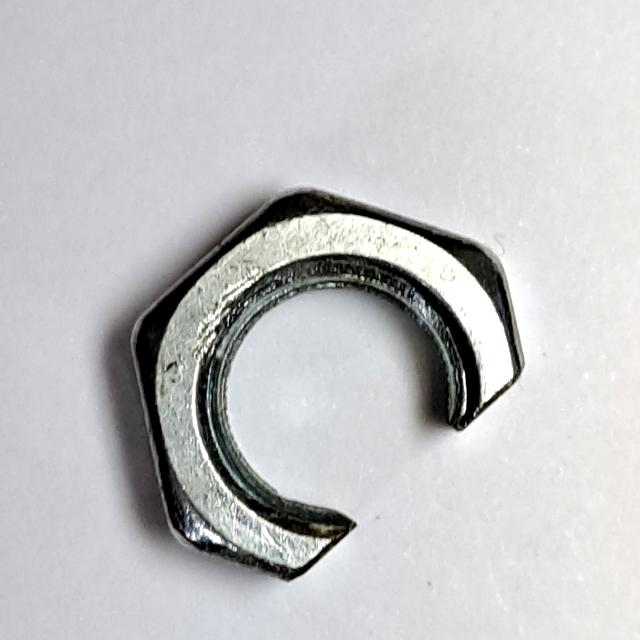Fracture: (117, 171, 539, 598)
